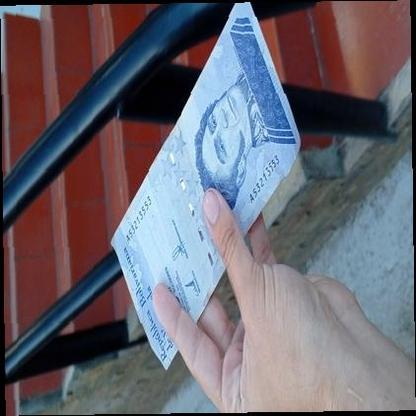ten-front-vef: (110, 3, 302, 369)
